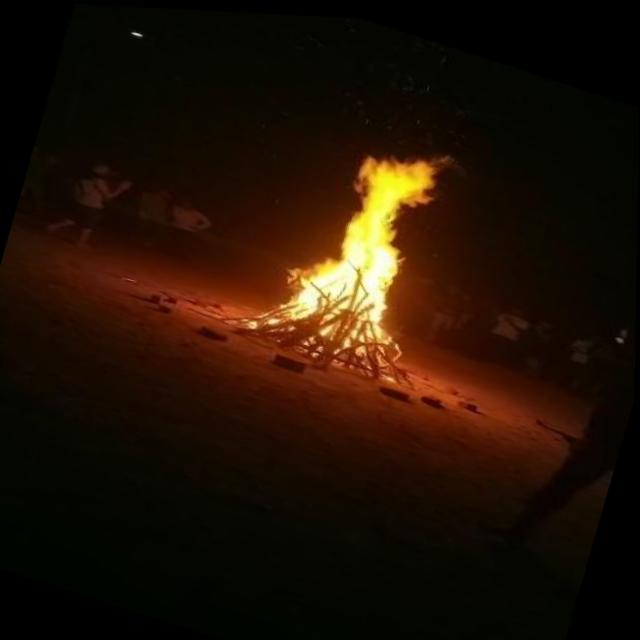fire: (254, 98, 477, 375)
